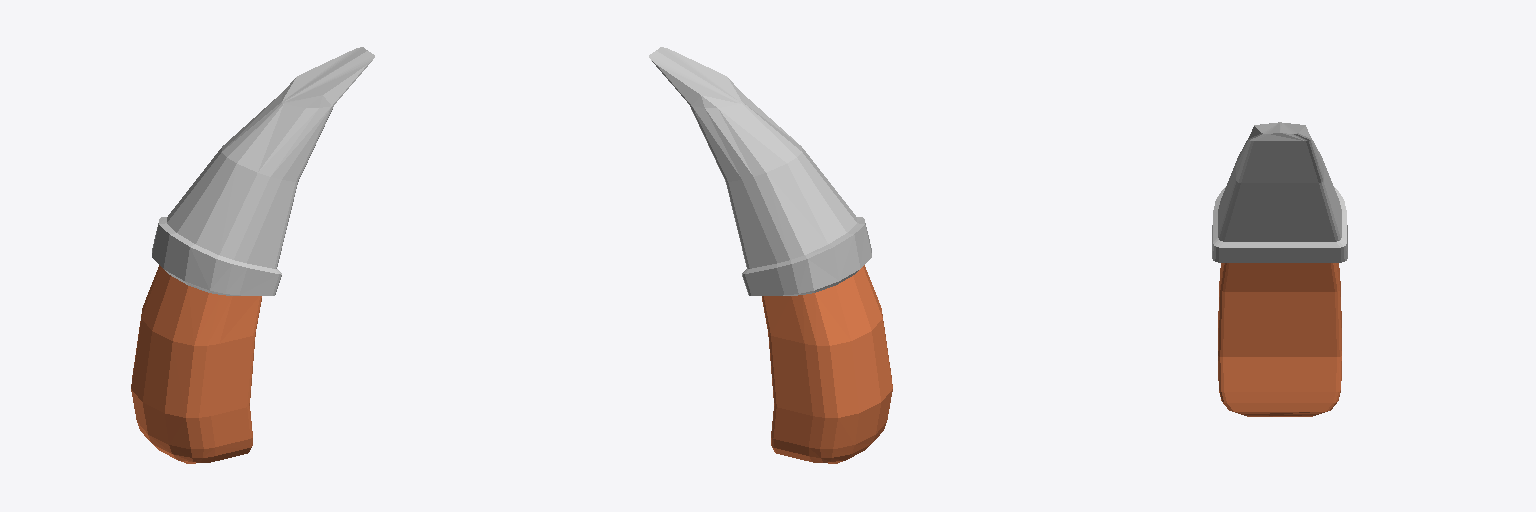
The model's file is character_blacksmithArmRight.obj.
3 renders of one model, left to right at view 1: azimuth 30°, elevation 25°; view 2: azimuth 150°, elevation 25°; view 3: azimuth 270°, elevation 25°, orthographic.
Visible parts, largest first — view 1: character_blacksmithArmRight_Cube.013; view 2: character_blacksmithArmRight_Cube.013; view 3: character_blacksmithArmRight_Cube.013.
Boxes of the visible parts, x1,y1,x2,y2 form: character_blacksmithArmRight_Cube.013: [131, 47, 374, 463]; character_blacksmithArmRight_Cube.013: [649, 47, 892, 463]; character_blacksmithArmRight_Cube.013: [1212, 122, 1347, 416].
Size of the model in its own units: 0.3802 by 0.5708 by 0.1971.